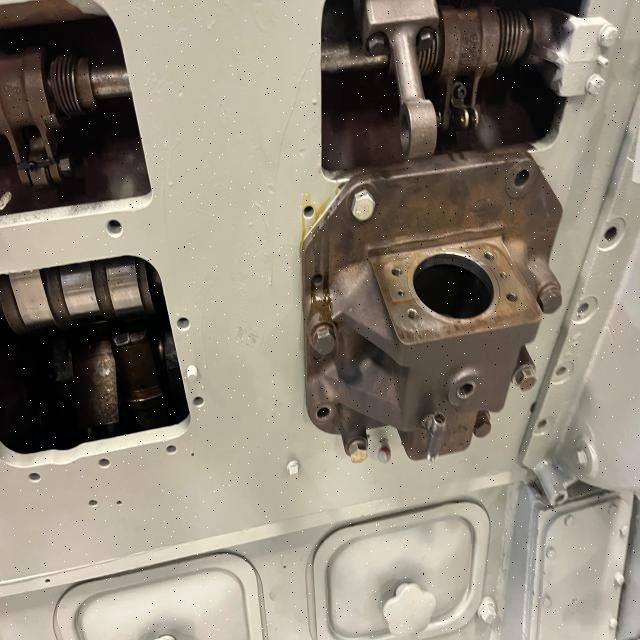Oil Leak: (300, 272, 340, 361), (281, 185, 333, 247)
